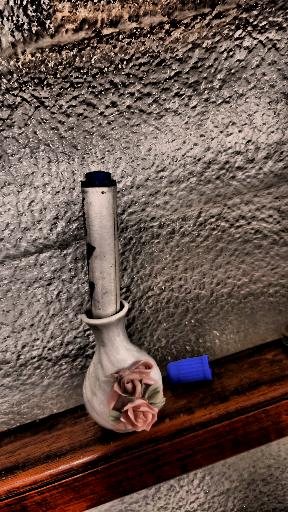marcador azul: (81, 171, 120, 319)
